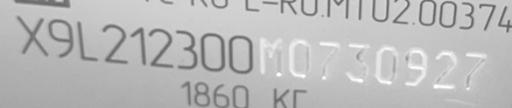letter: (14, 12, 50, 60), (98, 19, 130, 67), (427, 46, 461, 90), (226, 27, 256, 75), (146, 23, 176, 70), (400, 44, 430, 89), (46, 16, 76, 59), (314, 36, 342, 82), (371, 40, 399, 85), (461, 48, 489, 93), (74, 19, 102, 63), (258, 31, 286, 75), (286, 35, 314, 79), (342, 39, 370, 82), (198, 30, 226, 72), (175, 27, 199, 71), (129, 22, 149, 67)
